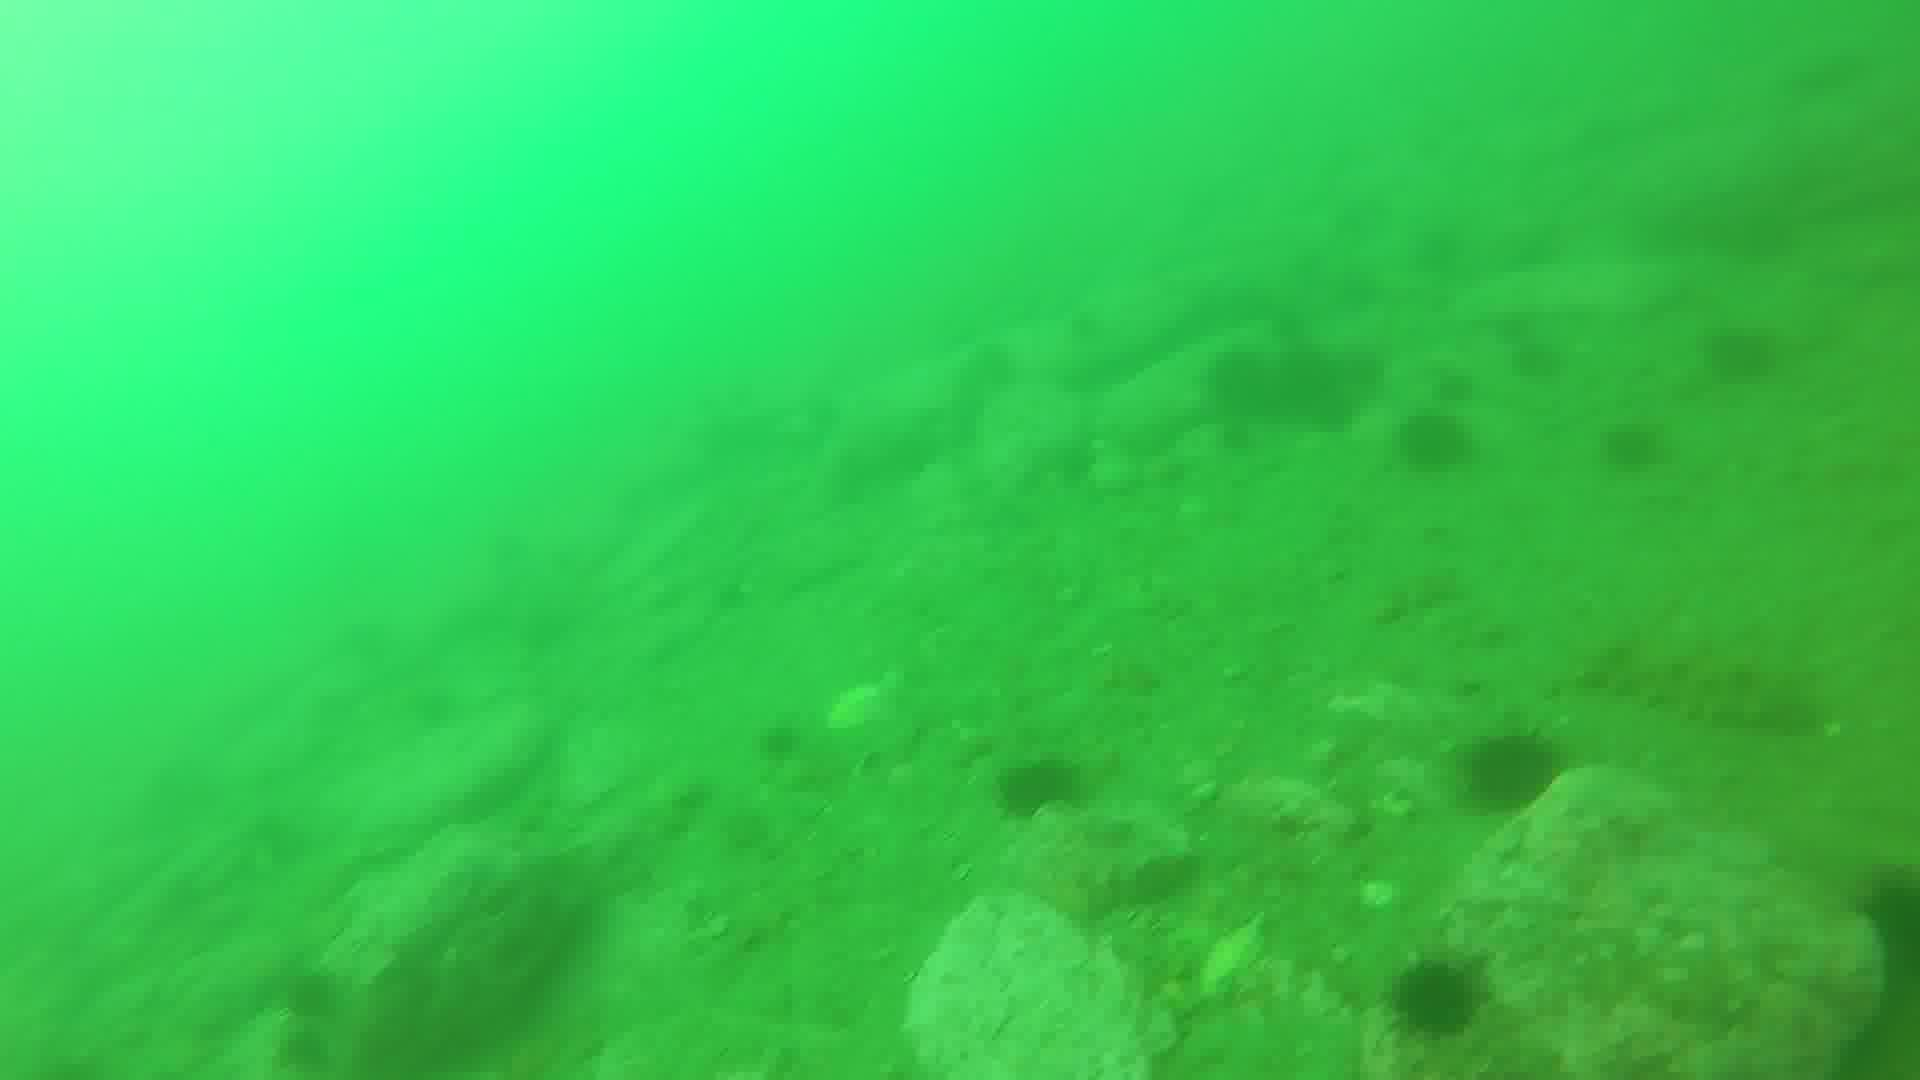echinus: (1377, 951, 1489, 1035), (1457, 732, 1567, 807), (992, 761, 1080, 828), (1414, 407, 1491, 480), (1857, 866, 1920, 953), (1294, 375, 1371, 433), (1712, 324, 1783, 386), (1216, 353, 1284, 411), (1593, 430, 1665, 481)
holothurian: (1581, 630, 1826, 742)
